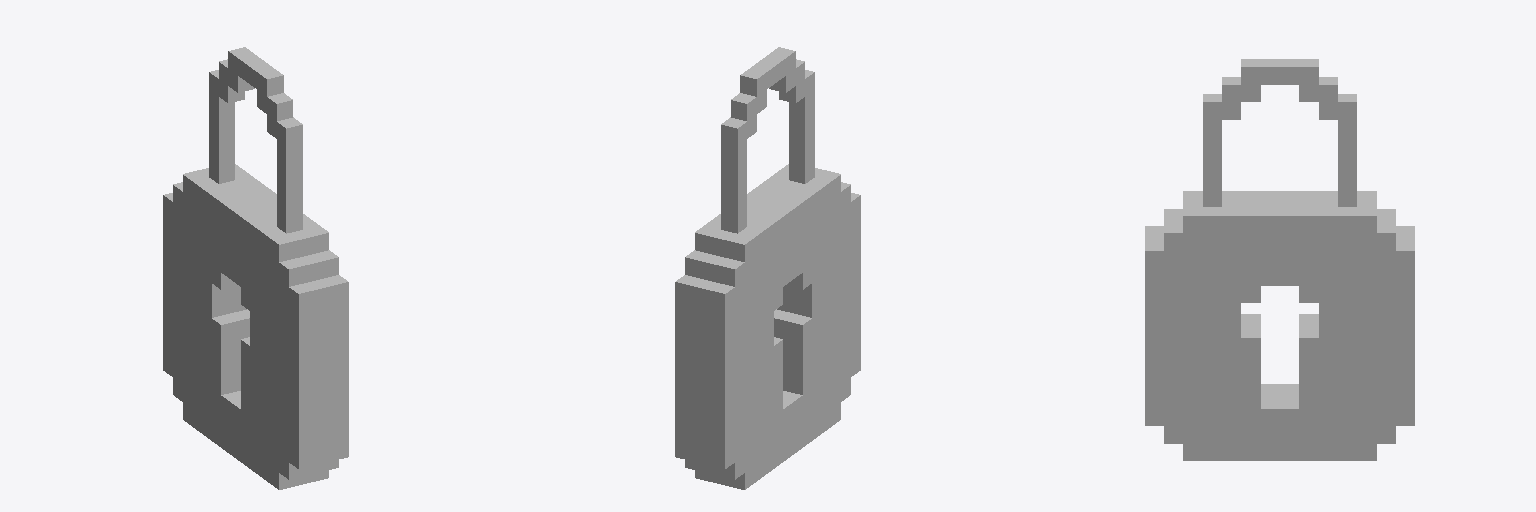
File: block.obj
3 views of the same model, side by side, from view 1: azimuth 30°, elevation 25°; view 2: azimuth 150°, elevation 25°; view 3: azimuth 270°, elevation 25° (orthographic).
Visible parts, largest first — view 1: object 1; view 2: object 1; view 3: object 1.
Part boxes in pixels (x1,y1,x2,y2): object 1: (163, 47, 348, 489); object 1: (675, 47, 860, 489); object 1: (1145, 59, 1414, 460).
Size of the model in its own units: 0.3 by 2.2 by 1.4.